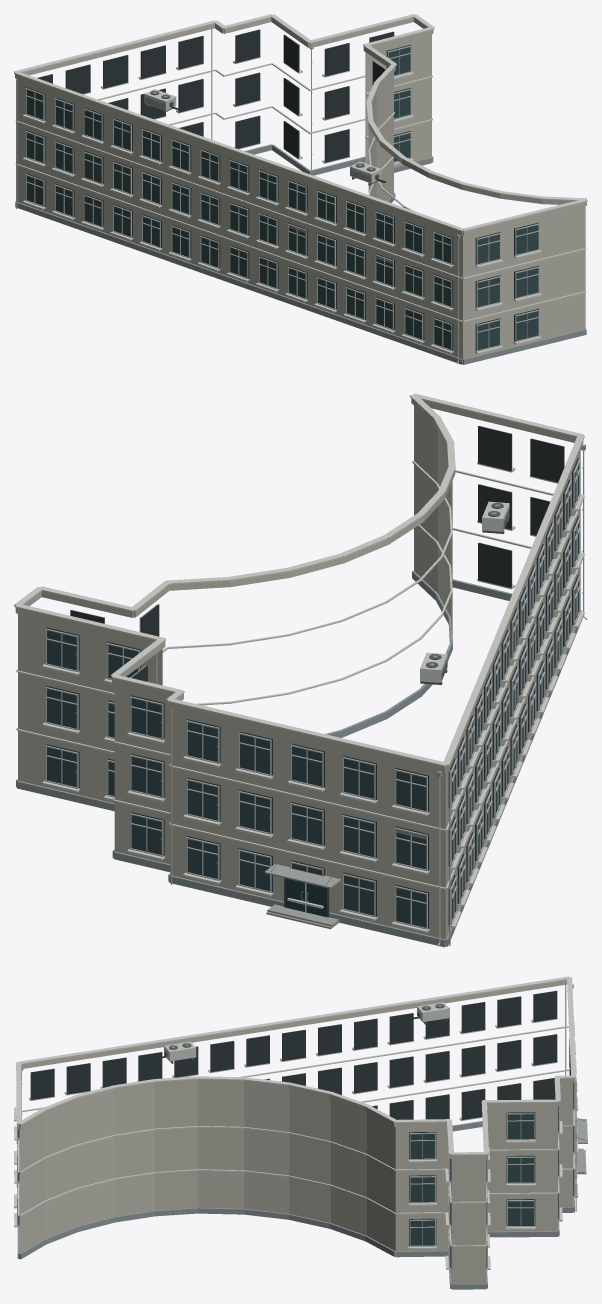
File: osm_way_1390009974.glb
The picture shows the model from 3 angles, top to bottom: view 1: azimuth 30°, elevation 25°; view 2: azimuth 150°, elevation 25°; view 3: azimuth 270°, elevation 25°; orthographic projection. The views are drawn at different scales.
Visible parts, largest first — view 1: Architecture | 南邮仙林一食堂, Windows and facade details | 南邮仙林一食堂, Roof services | 南邮仙林一食堂, EXTERIOR::osm_way_1390009974::rainwater and roof service det; view 2: Architecture | 南邮仙林一食堂, Windows and facade details | 南邮仙林一食堂, Roof services | 南邮仙林一食堂, EXTERIOR::osm_way_1390009974::inferred entry doors canopy an, EXTERIOR::osm_way_1390009974::rainwater and roof service det; view 3: Architecture | 南邮仙林一食堂, Windows and facade details | 南邮仙林一食堂, Roof services | 南邮仙林一食堂, EXTERIOR::osm_way_1390009974::rainwater and roof service det, EXTERIOR::osm_way_1390009974::inferred entry doors canopy an.
Part boxes in pixels (box(x1,y1,x2,y2)): Architecture | 南邮仙林一食堂: box(15, 17, 586, 364); Windows and facade details | 南邮仙林一食堂: box(16, 29, 541, 354); Roof services | 南邮仙林一食堂: box(14, 14, 587, 231); EXTERIOR::osm_way_1390009974::rainwater and roof service det: box(144, 47, 460, 364); Architecture | 南邮仙林一食堂: box(15, 398, 583, 947); Windows and facade details | 南邮仙林一食堂: box(42, 426, 584, 945); Roof services | 南邮仙林一食堂: box(14, 393, 584, 766); EXTERIOR::osm_way_1390009974::inferred entry doors canopy an: box(264, 859, 340, 929); EXTERIOR::osm_way_1390009974::rainwater and roof service det: box(156, 444, 587, 946); Architecture | 南邮仙林一食堂: box(17, 980, 575, 1289); Windows and facade details | 南邮仙林一食堂: box(14, 985, 578, 1269); Roof services | 南邮仙林一食堂: box(16, 976, 576, 1155); EXTERIOR::osm_way_1390009974::rainwater and roof service det: box(21, 984, 573, 1237); EXTERIOR::osm_way_1390009974::inferred entry doors canopy an: box(575, 1117, 587, 1174).
Bounding box in the file's own units: 36.95 × 13.98 × 50.34.
